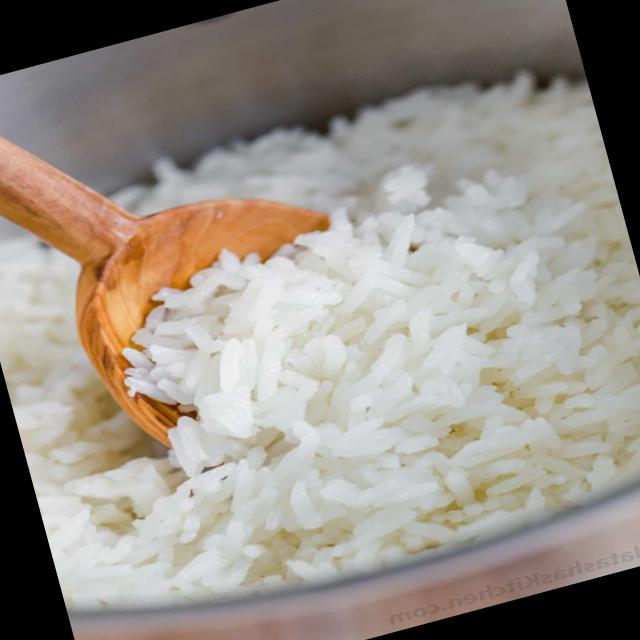rice: (0, 76, 640, 616)
